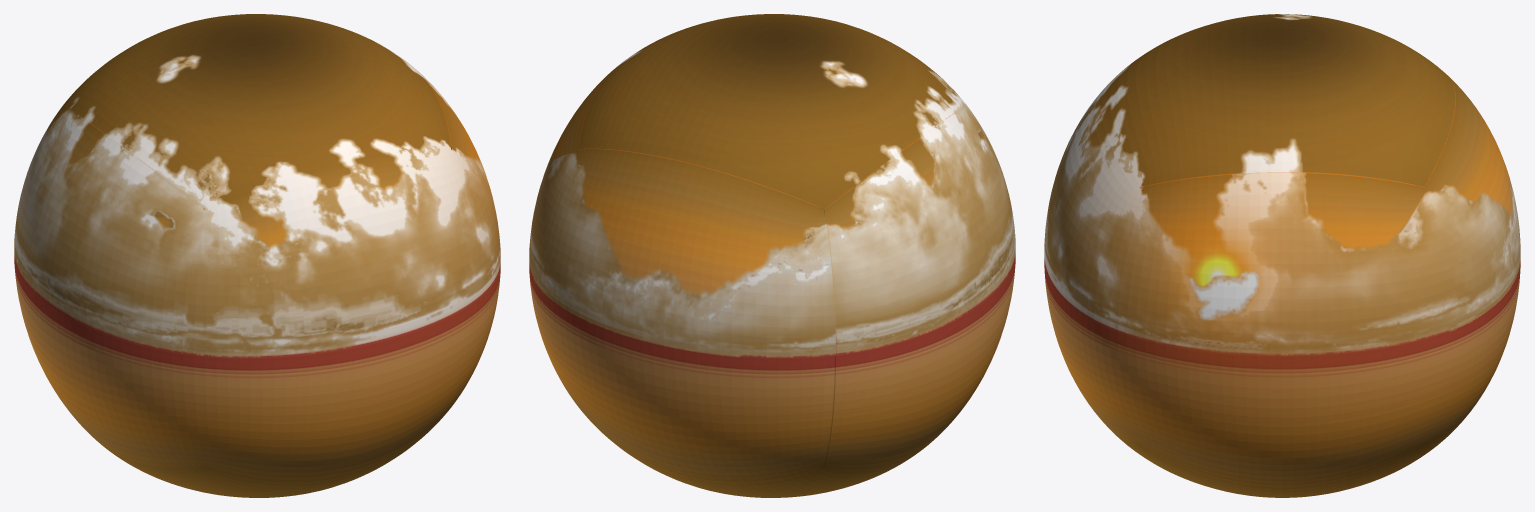
Rendered from SkyDome.obj.
3 renders of one model, left to right at view 1: azimuth 30°, elevation 25°; view 2: azimuth 150°, elevation 25°; view 3: azimuth 270°, elevation 25°, orthographic.
Parts seen in each view (by area): view 1: Cube; view 2: Cube; view 3: Cube.
Boxes of the visible parts, <box> form: Cube: <box>14,14,500,497</box>; Cube: <box>529,14,1015,497</box>; Cube: <box>1044,14,1520,497</box>.
Size of the model in its own units: 84.01 by 84.01 by 84.01.
1 material, 1 textured.
